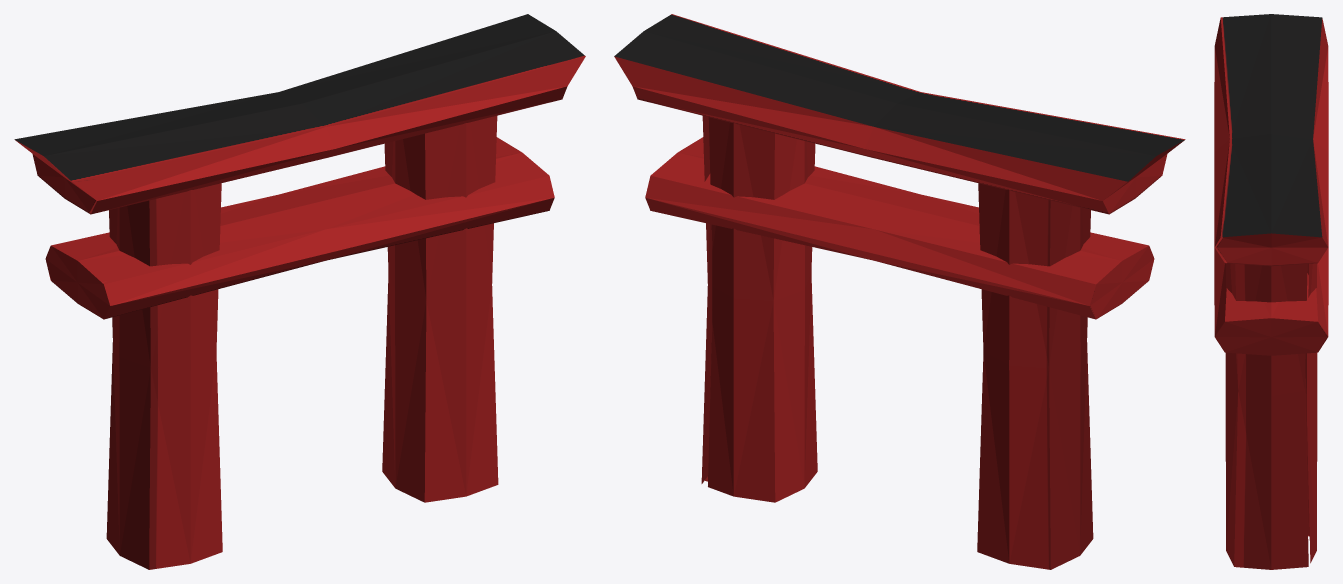
File: toriiBig.obj
3 views of the same model, side by side, from view 1: azimuth 30°, elevation 25°; view 2: azimuth 150°, elevation 25°; view 3: azimuth 270°, elevation 25° (orthographic). The views are drawn at different scales.
Parts seen in each view (by area): view 1: 立方体.003; view 2: 立方体.003; view 3: 立方体.003.
Boxes of the visible parts, left/top/right/bottom form: 立方体.003: left=14, top=14, right=585, bottom=569; 立方体.003: left=614, top=14, right=1185, bottom=569; 立方体.003: left=1214, top=14, right=1328, bottom=569.
Bounding box in the file's own units: 5.53 × 4.3 × 1.22.
